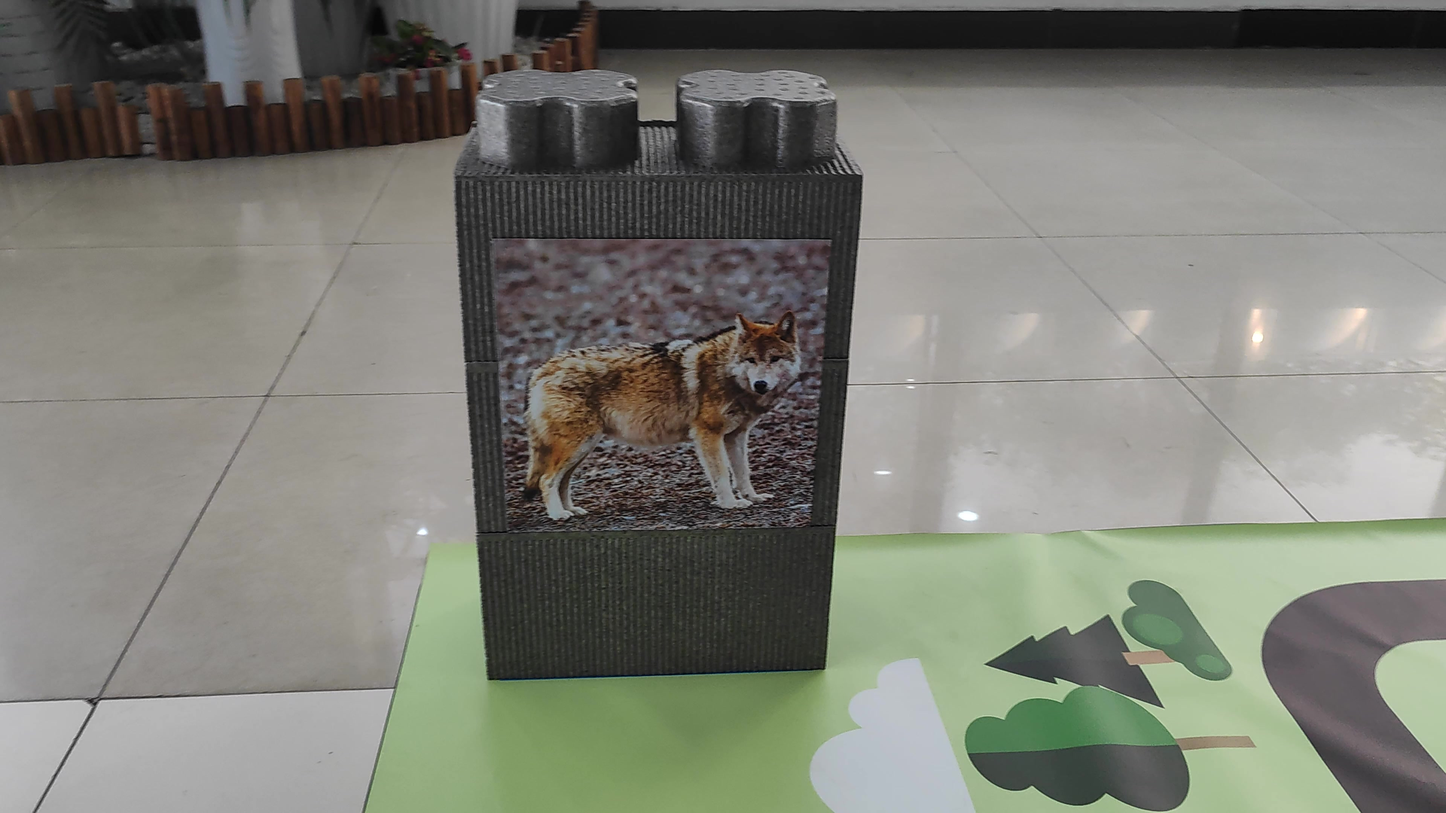wolf: (511, 279, 807, 547)
